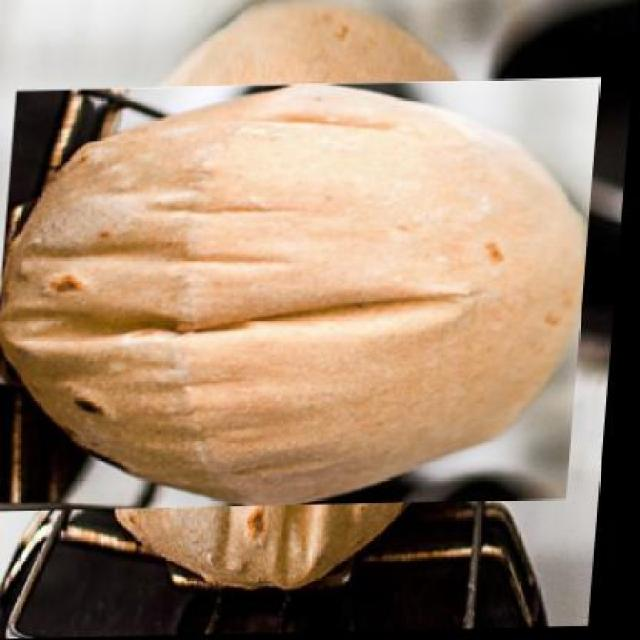chapati: (28, 40, 566, 554)
